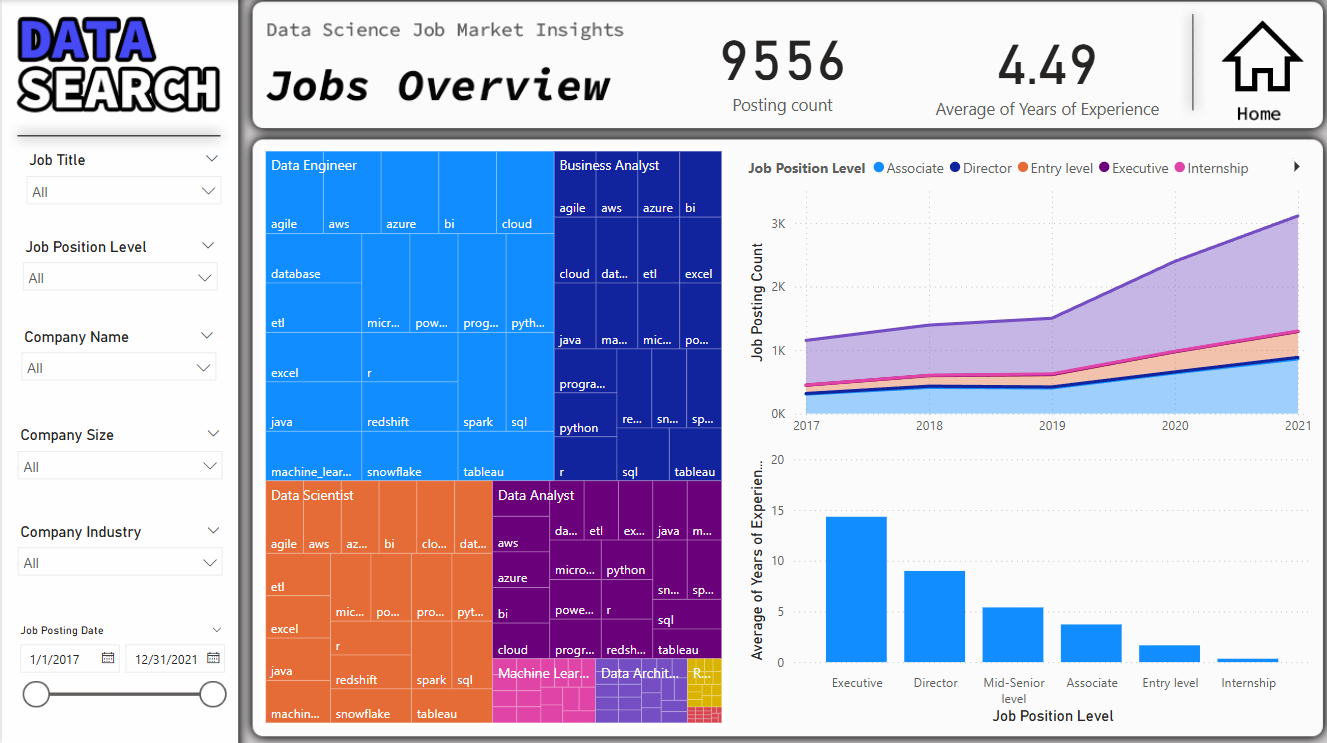

This screenshot's page, from the dashboard's own definition file:
{"tool":"powerbi","page":{"name":"Jobs ","canvas":[1280,720],"ordinal":1},"visuals":[{"type":"columnChart","fields":{"Category":["Job Postings.Job Position Level"],"Y":["Avg(Job Postings.Years of Experience)"]},"box":[715.6,429.1,553.6,274.5],"z":0},{"type":"stackedAreaChart","fields":{"Category":["Job Postings.Job Posting Date.Variation.Date Hierarchy.Year","Job Postings.Job Posting Date.Variation.Date Hierarchy.Quarter","Job Postings.Job Posting Date.Variation.Date Hierarchy.Month","Job Postings.Job Posting Date.Variation.Date Hierarchy.Day"],"Y":["CountNonNull(Job Postings.Job Posting ID)"],"Series":["Job Postings.Job Position Level"]},"box":[715.6,141,553.6,288],"z":1000},{"type":"treemap","fields":{"Group":["Job Postings.Job Title"],"Values":["CountNonNull(Job Postings.Job Title)"],"Details":["Job Skills.Job Skills"]},"box":[250,141.7,450,561.7],"z":2000},{"type":"slicer","fields":{"Values":["Job Postings.Job Title"]},"box":[13.3,141.7,208.3,86.7],"z":3000},{"type":"slicer","fields":{"Values":["Job Postings.Company Name"]},"box":[8.3,311.7,208.3,86.7],"z":4000},{"type":"slicer","fields":{"Values":["Job Postings.Job Position Level"]},"box":[10,225,208.3,86.7],"z":5000},{"type":"slicer","fields":{"Values":["Job Postings.Company Size"]},"box":[5,406.7,218.3,86.7],"z":6000},{"type":"slicer","fields":{"Values":["Job Postings.Company Industry"]},"box":[5,500,218.3,86.7],"z":7000},{"type":"slicer","fields":{"Values":["Job Postings.Job Posting Date"]},"box":[5,596.7,220,100],"z":8000},{"type":"card","fields":{"Values":["__Measures.Posting count"]},"box":[630.7,9,245,108.3],"z":9000},{"type":"card","fields":{"Values":["Avg(Job Postings.Years of Experience)"]},"box":[891.7,11.7,235,108.3],"z":10000},{"type":"image","box":[1170,10,93.3,90],"z":11000}]}

Visuals, with their boxes on the page's 1280x720 design canvas (x1, y1, x2, y2). These are canvas units, not pixel positions in the 1327x743 screenshot, which may show the page scaled, cropped or inside an application window:
columnChart - Job Postings.Job Position Level x Avg(Job Postings.Years of Experience): (x1=716, y1=429, x2=1269, y2=704)
stackedAreaChart - Job Postings.Job Posting Date.Variation.Date Hierarchy.Year x Job Postings.Job Posting Date.Variation.Date Hierarchy.Quarter: (x1=716, y1=141, x2=1269, y2=429)
treemap - Job Postings.Job Title x CountNonNull(Job Postings.Job Title): (x1=250, y1=142, x2=700, y2=703)
slicer - Job Postings.Job Title: (x1=13, y1=142, x2=222, y2=228)
slicer - Job Postings.Company Name: (x1=8, y1=312, x2=217, y2=398)
slicer - Job Postings.Job Position Level: (x1=10, y1=225, x2=218, y2=312)
slicer - Job Postings.Company Size: (x1=5, y1=407, x2=223, y2=493)
slicer - Job Postings.Company Industry: (x1=5, y1=500, x2=223, y2=587)
slicer - Job Postings.Job Posting Date: (x1=5, y1=597, x2=225, y2=697)
card - __Measures.Posting count: (x1=631, y1=9, x2=876, y2=117)
card - Avg(Job Postings.Years of Experience): (x1=892, y1=12, x2=1127, y2=120)
image: (x1=1170, y1=10, x2=1263, y2=100)
